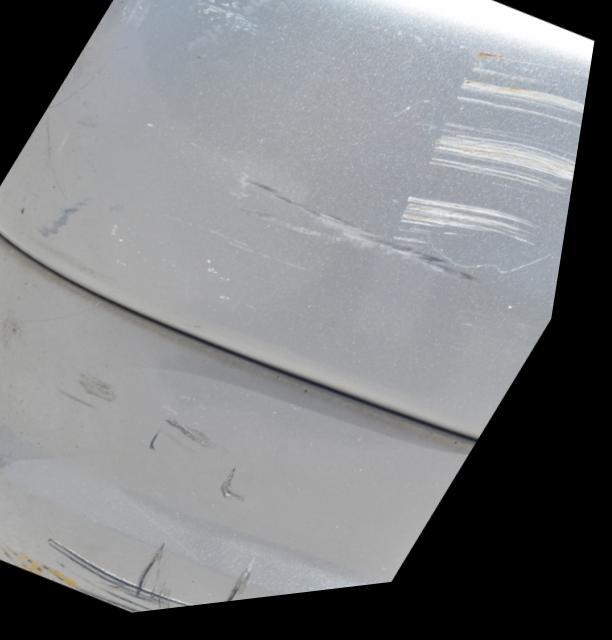scratch: (208, 58, 594, 310), (0, 319, 270, 512), (0, 517, 292, 618)
